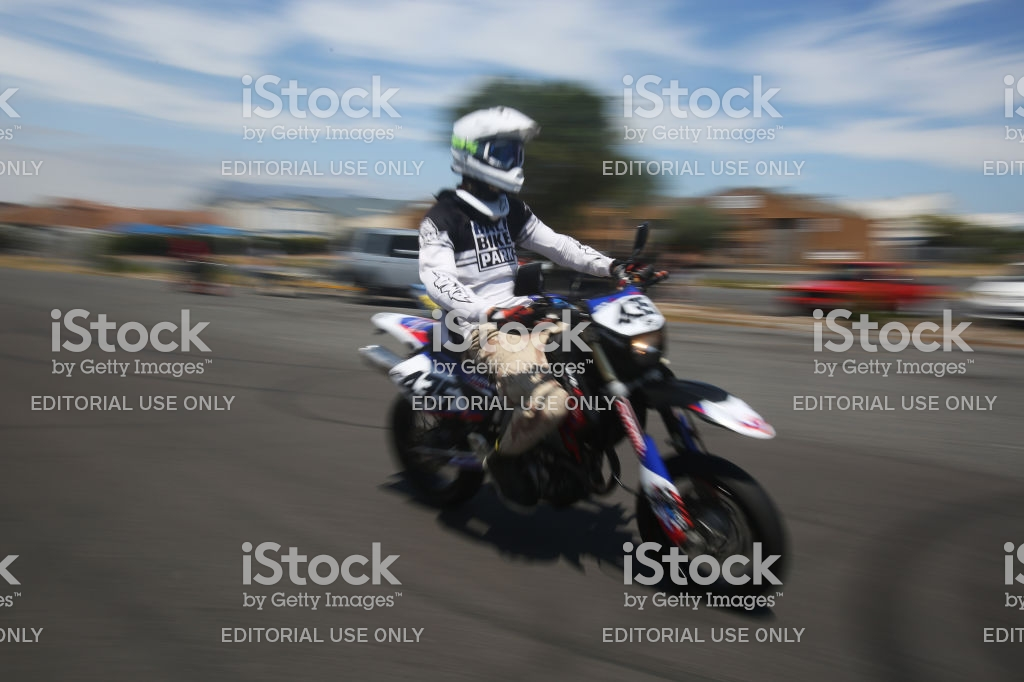helmet: (452, 111, 543, 208)
